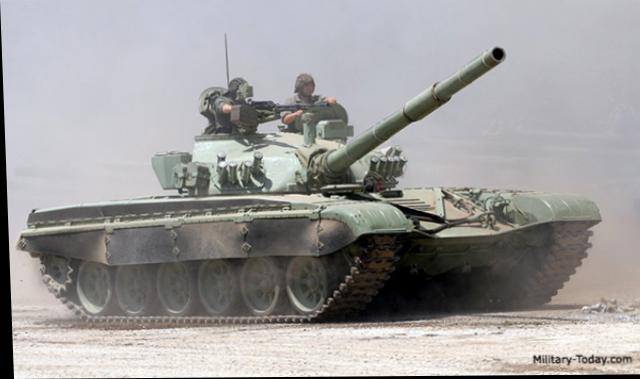tank: (11, 129, 576, 317)
